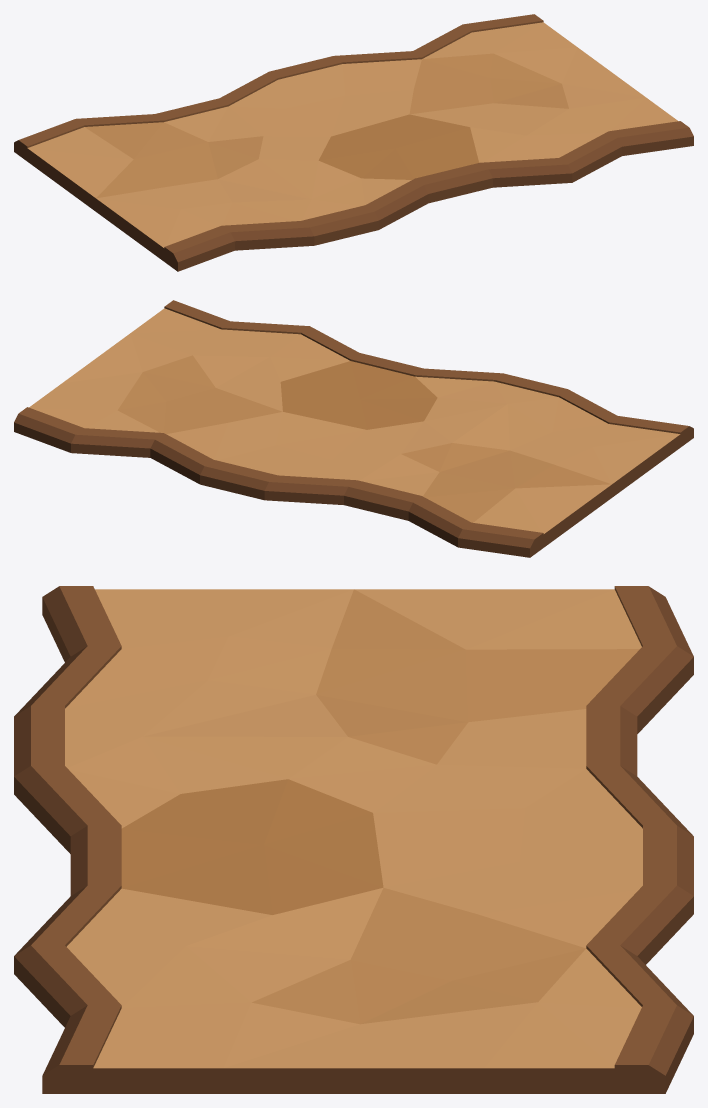
The model's file is FMS_Path_Dirt_Straight.fbx.
The picture shows the model from 3 angles, top to bottom: view 1: azimuth 30°, elevation 25°; view 2: azimuth 150°, elevation 25°; view 3: azimuth 270°, elevation 25°; orthographic projection. The views are drawn at different scales.
Parts seen in each view (by area): view 1: FMS_Path_Dirt_Straight; view 2: FMS_Path_Dirt_Straight; view 3: FMS_Path_Dirt_Straight.
Part boxes in pixels (x1=…): FMS_Path_Dirt_Straight: x1=14, y1=14, x2=693, y2=271; FMS_Path_Dirt_Straight: x1=14, y1=300, x2=693, y2=557; FMS_Path_Dirt_Straight: x1=14, y1=586, x2=693, y2=1093.
Bounding box in the file's own units: 2 × 0.056 × 1.2.
